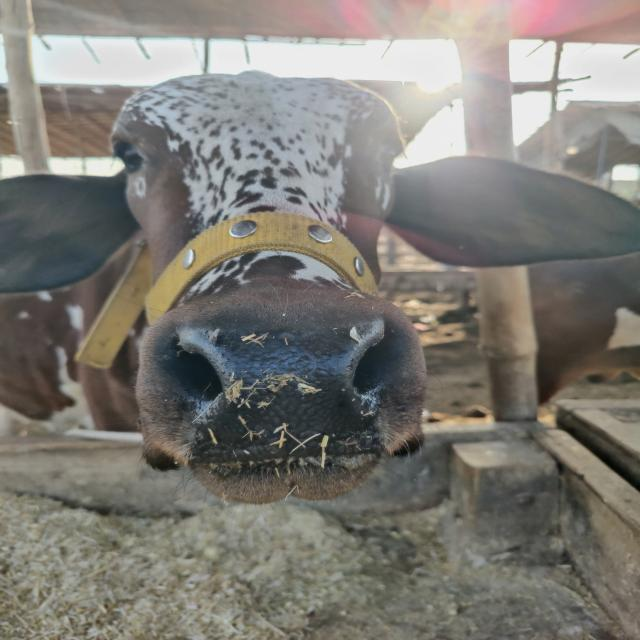muzzles: (157, 306, 414, 461)
